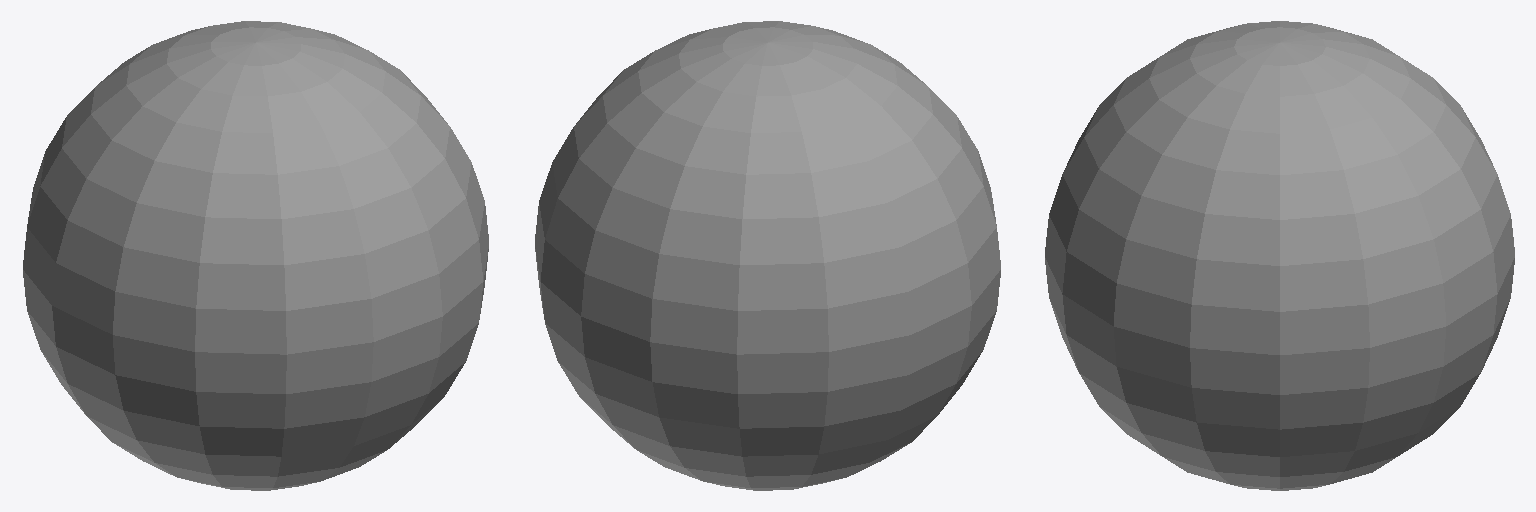
File: orb.obj
The picture shows the model from 3 angles: view 1: azimuth 30°, elevation 25°; view 2: azimuth 150°, elevation 25°; view 3: azimuth 270°, elevation 25°; orthographic projection.
Parts seen in each view (by area): view 1: Sphere_Sphere.001; view 2: Sphere_Sphere.001; view 3: Sphere_Sphere.001.
Part boxes in pixels (x1,y1,x2,y2): Sphere_Sphere.001: (23, 21, 488, 490); Sphere_Sphere.001: (535, 21, 1000, 490); Sphere_Sphere.001: (1045, 21, 1514, 490).
Bounding box in the file's own units: 2 × 2 × 2.